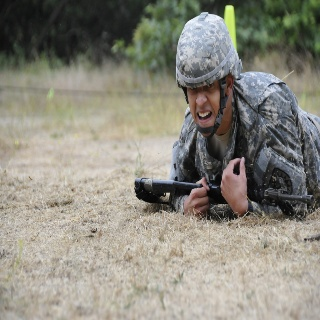rifle: (133, 175, 314, 214)
